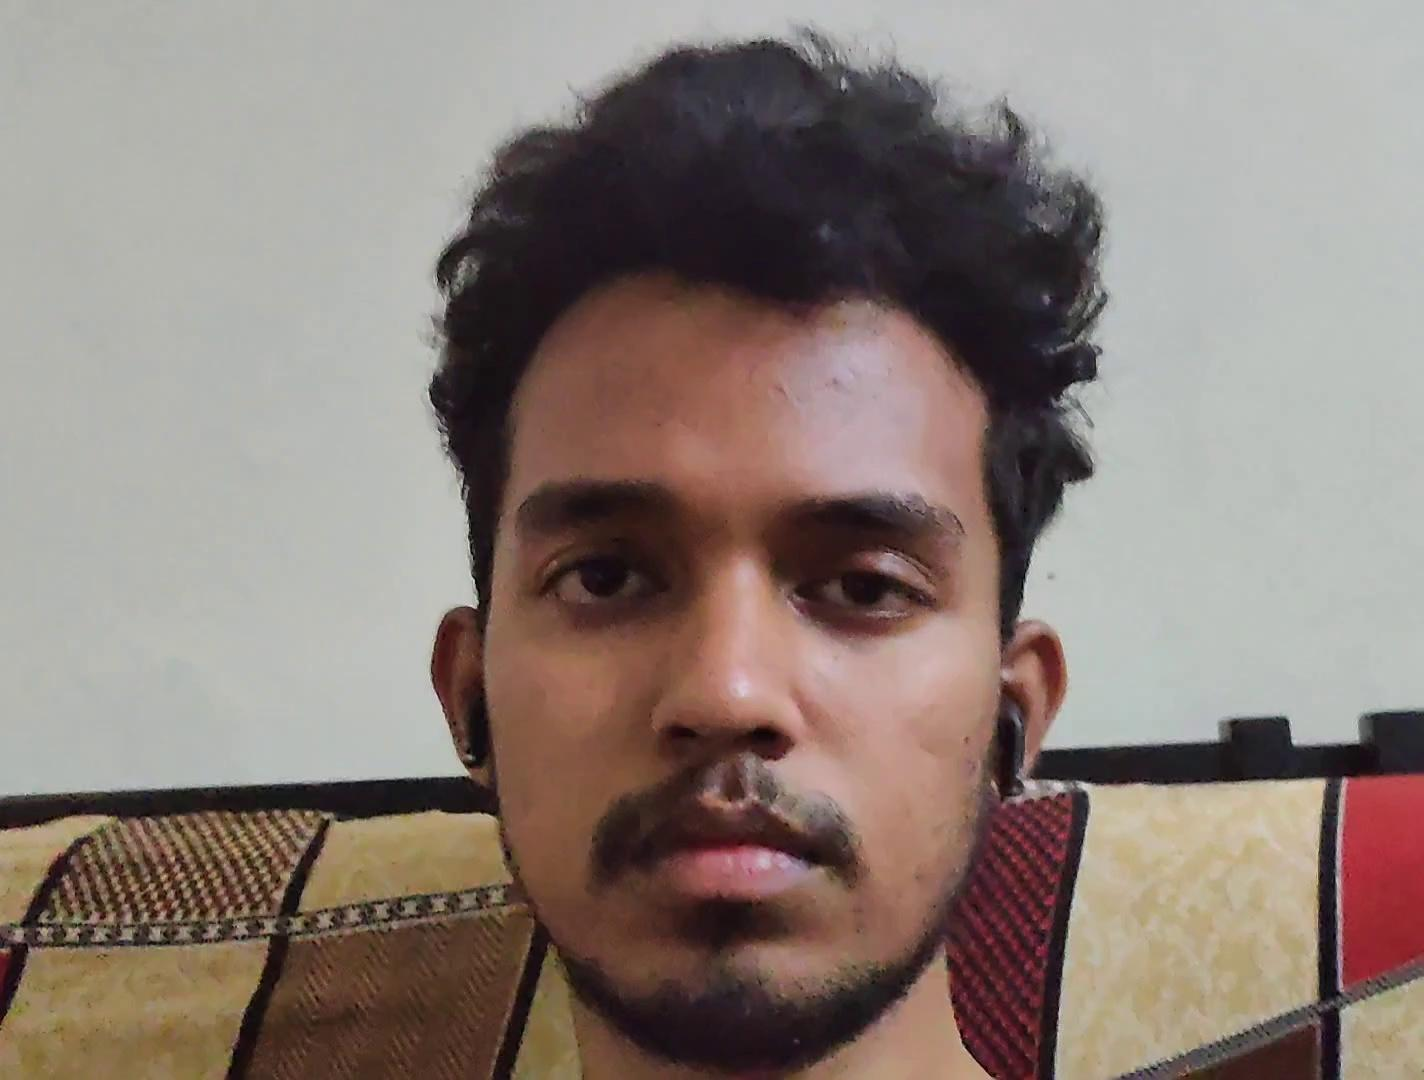face: (481, 280, 1006, 1030)
